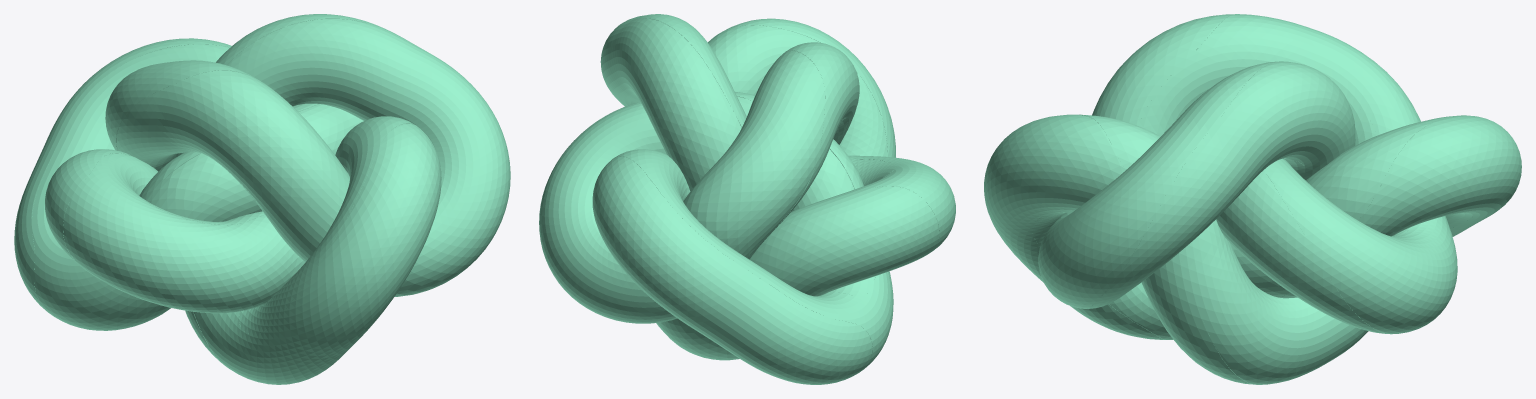
The model's file is gem_127222002.gltf.
3 views of the same model, side by side, from view 1: azimuth 30°, elevation 25°; view 2: azimuth 150°, elevation 25°; view 3: azimuth 270°, elevation 25° (orthographic). The views are drawn at different scales.
Bounding box in the file's own units: 1.39 × 1.04 × 1.58.
